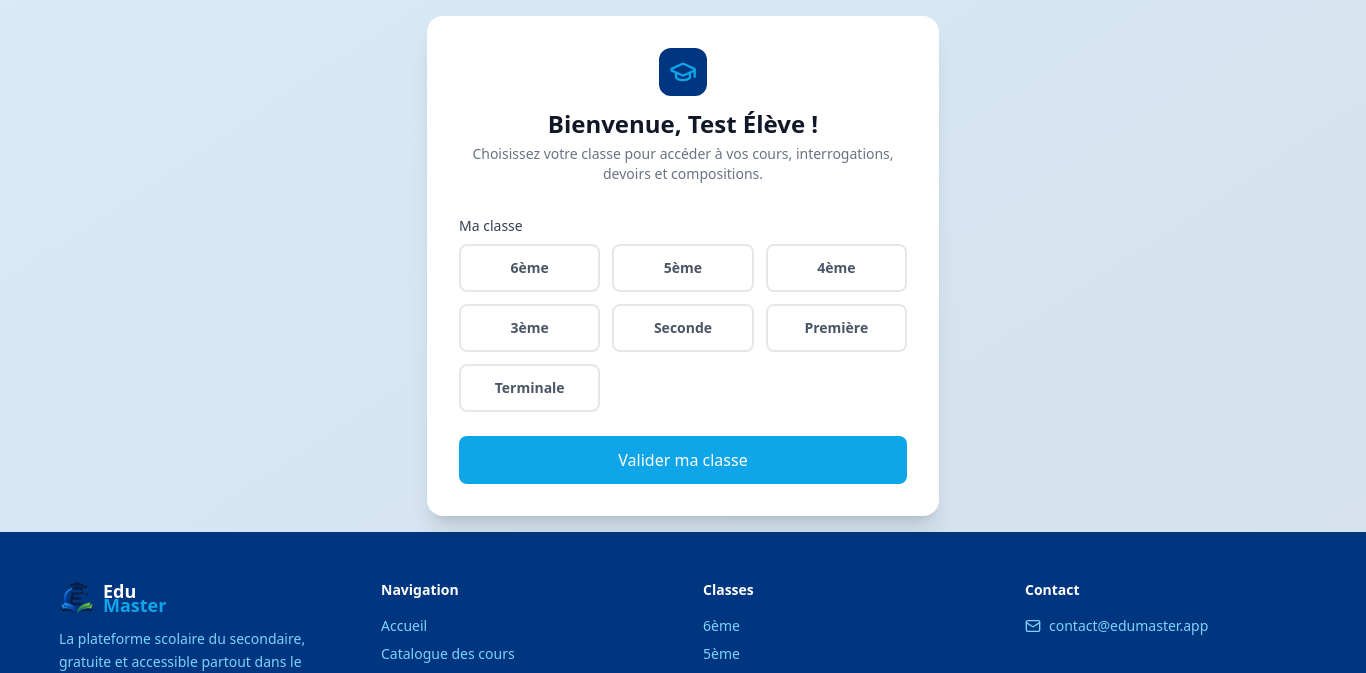
Test: ChooseClass › sélectionner une classe de lycée affiche le bloc série
This screenshot has width=1366, height=673.
Expected: the text "Ma série" is not shown
Click the button "Terminale": click(530, 388) [459, 364, 600, 412]
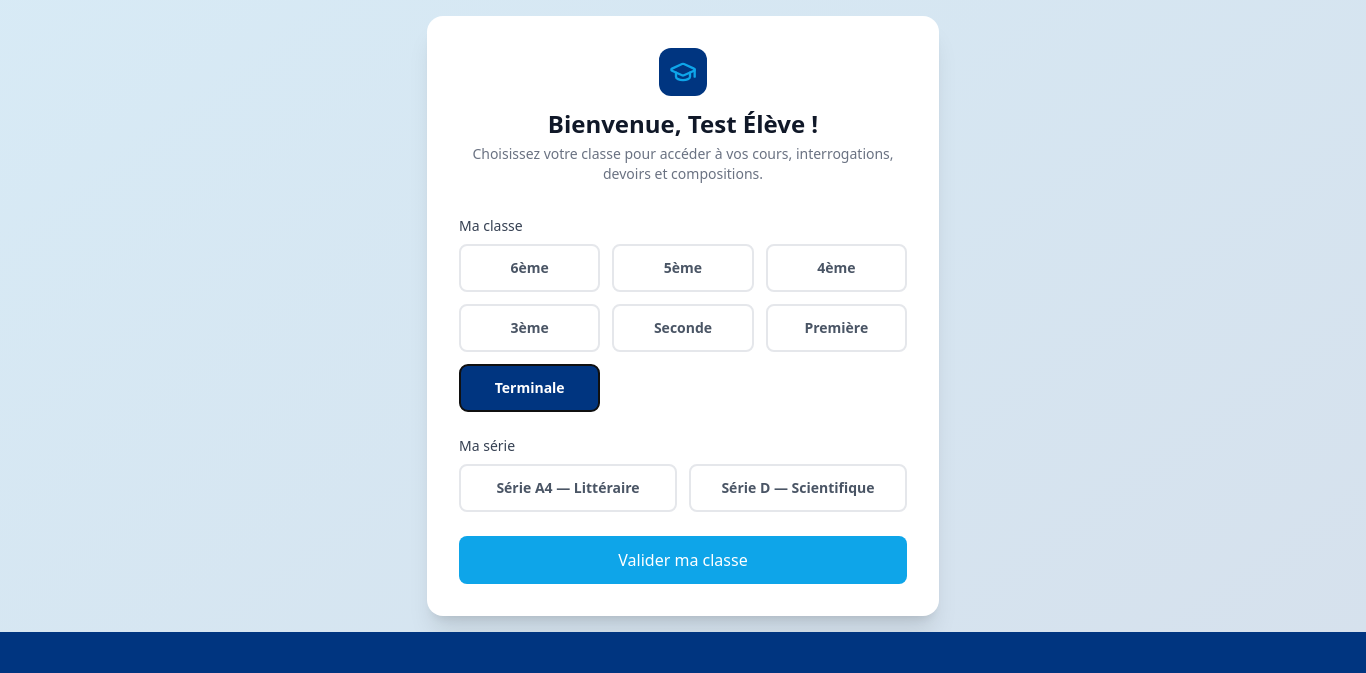
Expected: the text "Ma série" is shown, [459, 436, 515, 455]
